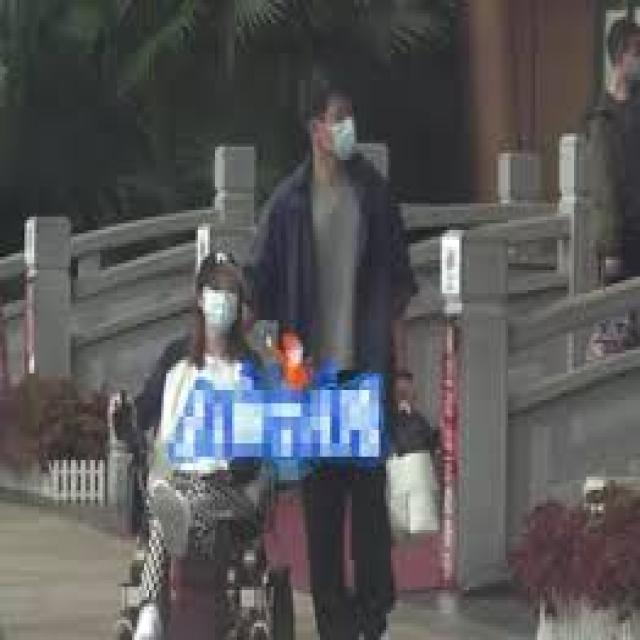wheelchairs: (107, 346, 300, 636)
